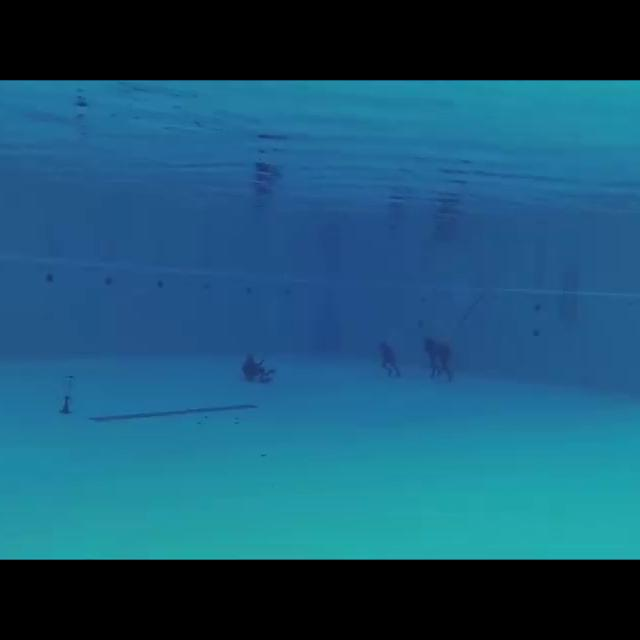human: (420, 330, 462, 385), (240, 345, 278, 390), (377, 336, 404, 387)
